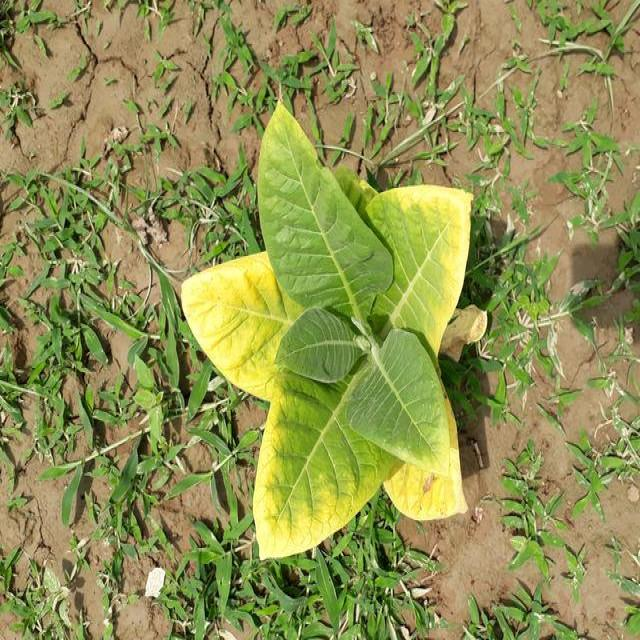crop: (175, 100, 475, 562)
